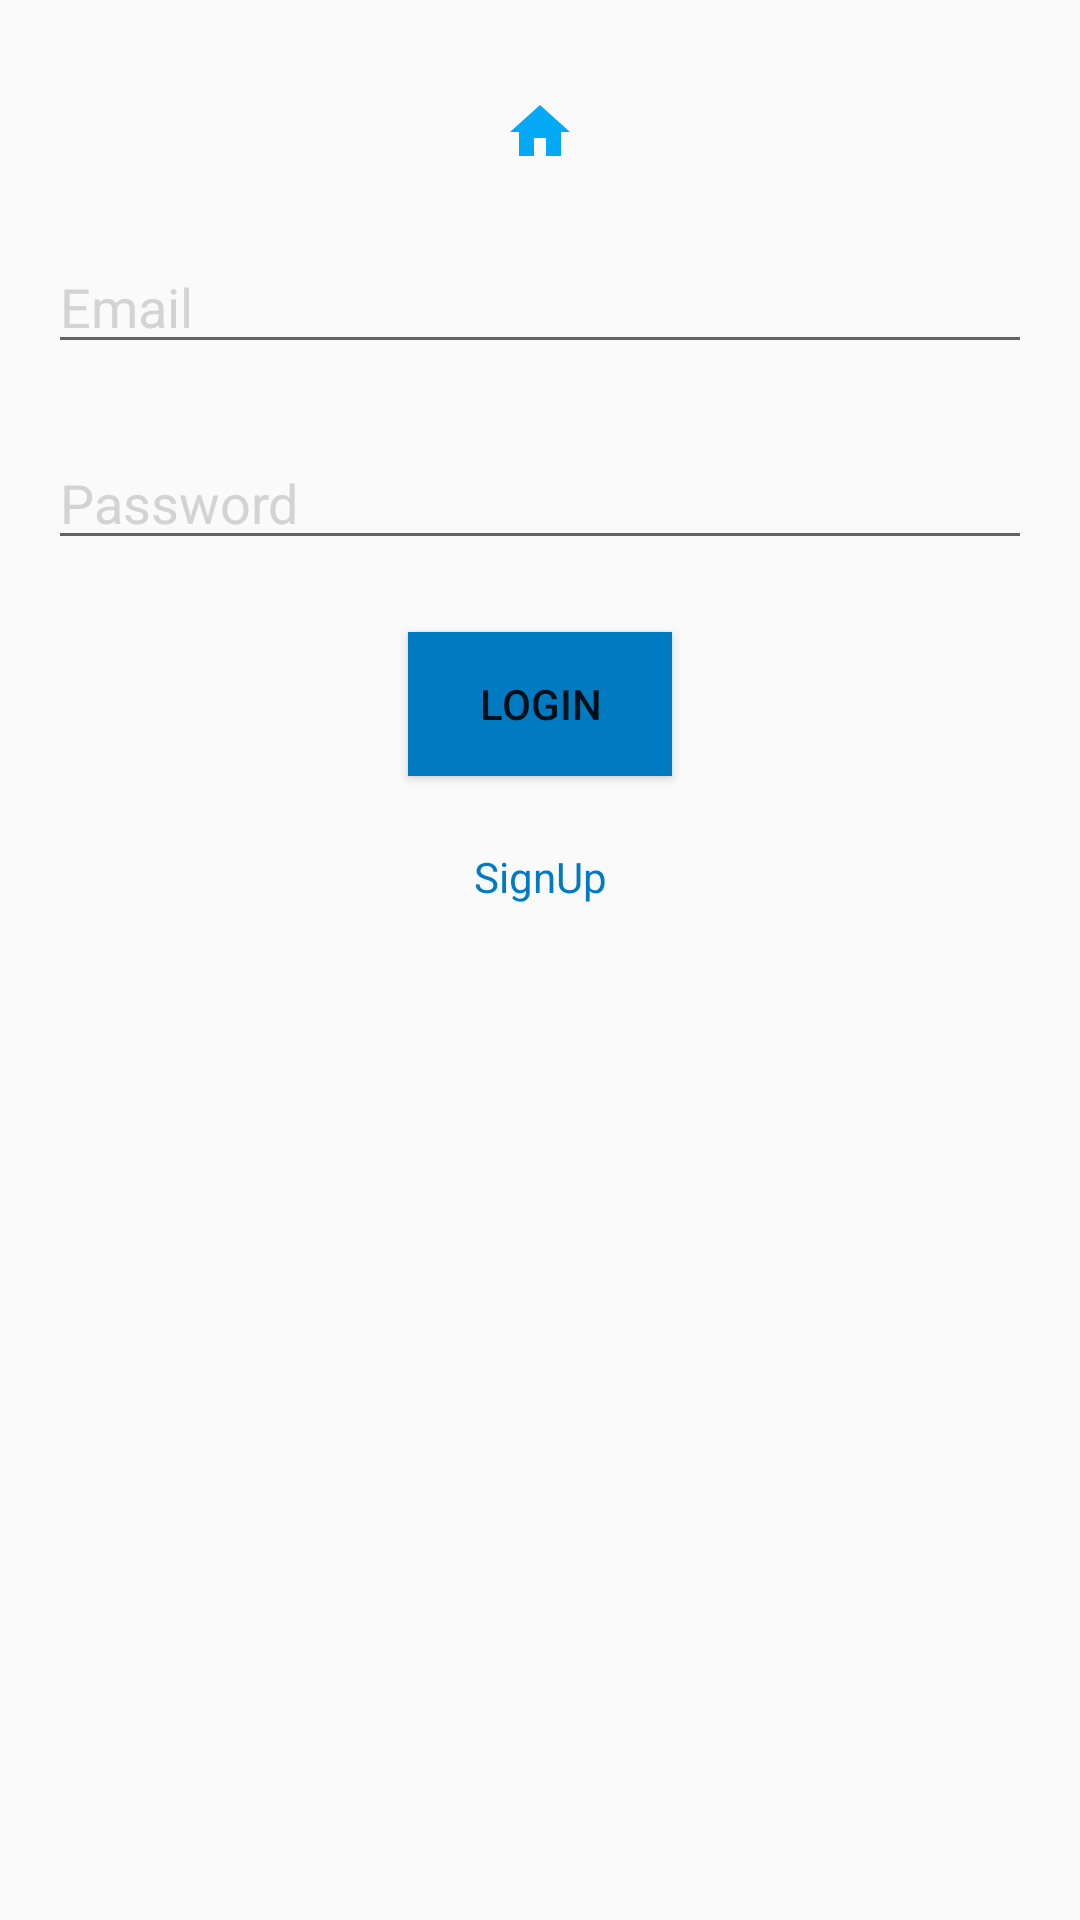

Point at icon controls on the screen. Image size 1080px x 1920px, points as (x,y).
home: (540,130)
